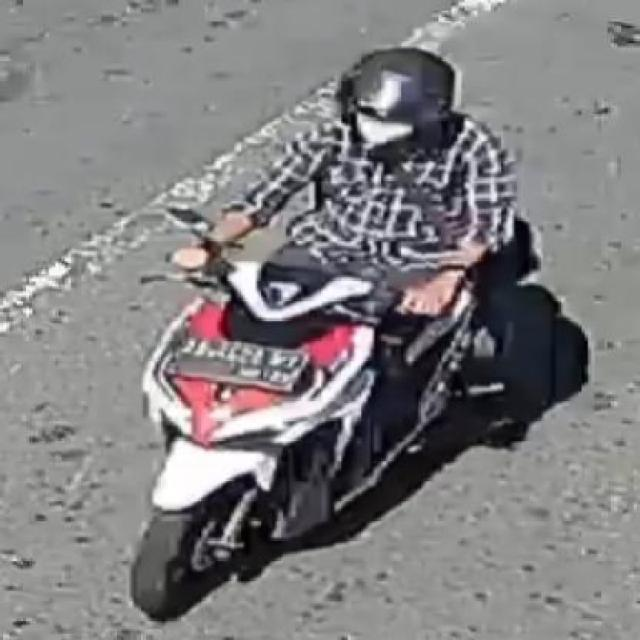helmet: (290, 23, 492, 150)
motorcycle: (83, 38, 548, 633)
